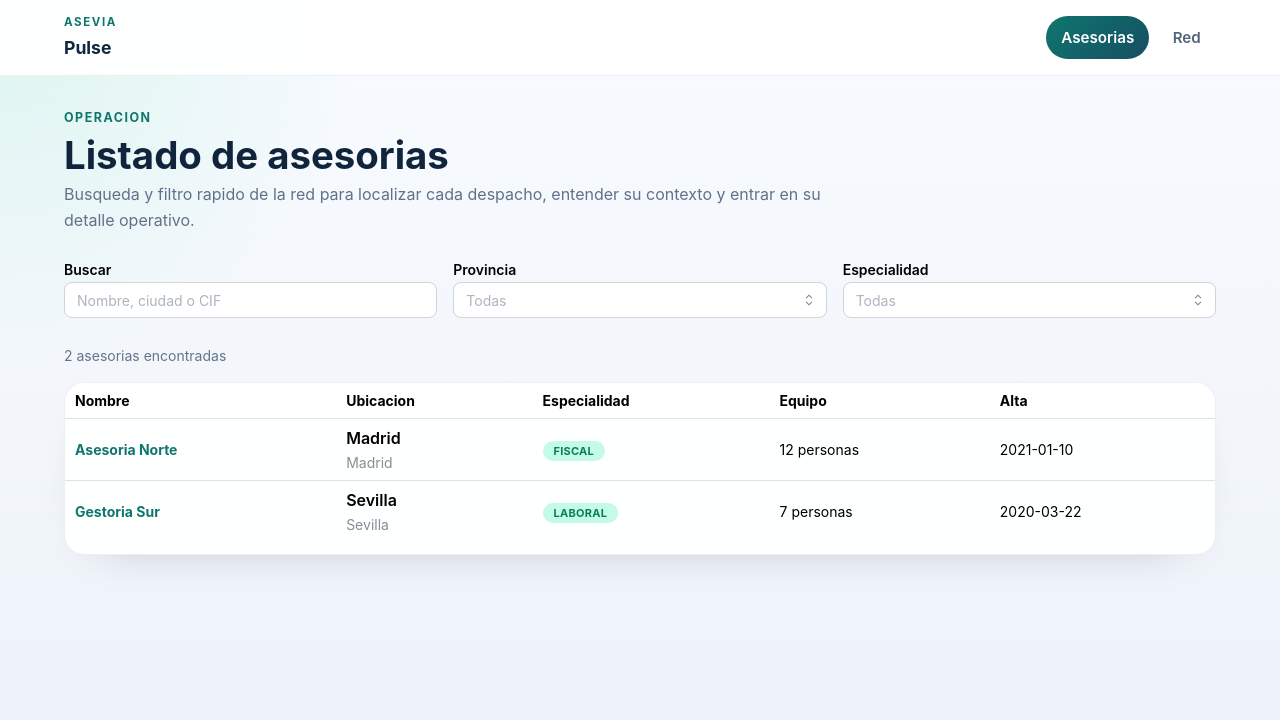
Test case: AsesoriasListPage integration › renders the list and updates results when the search changes
The width and height of the screenshot is (1280, 720).
Expected: the heading "Listado de asesorias" is shown, 64,132 -> 449,178
Expected: the link "Asesoria Norte" is shown, 75,441 -> 178,458
In the field labelled "Buscar": (251, 300) 64,282 -> 437,318, type "norte"
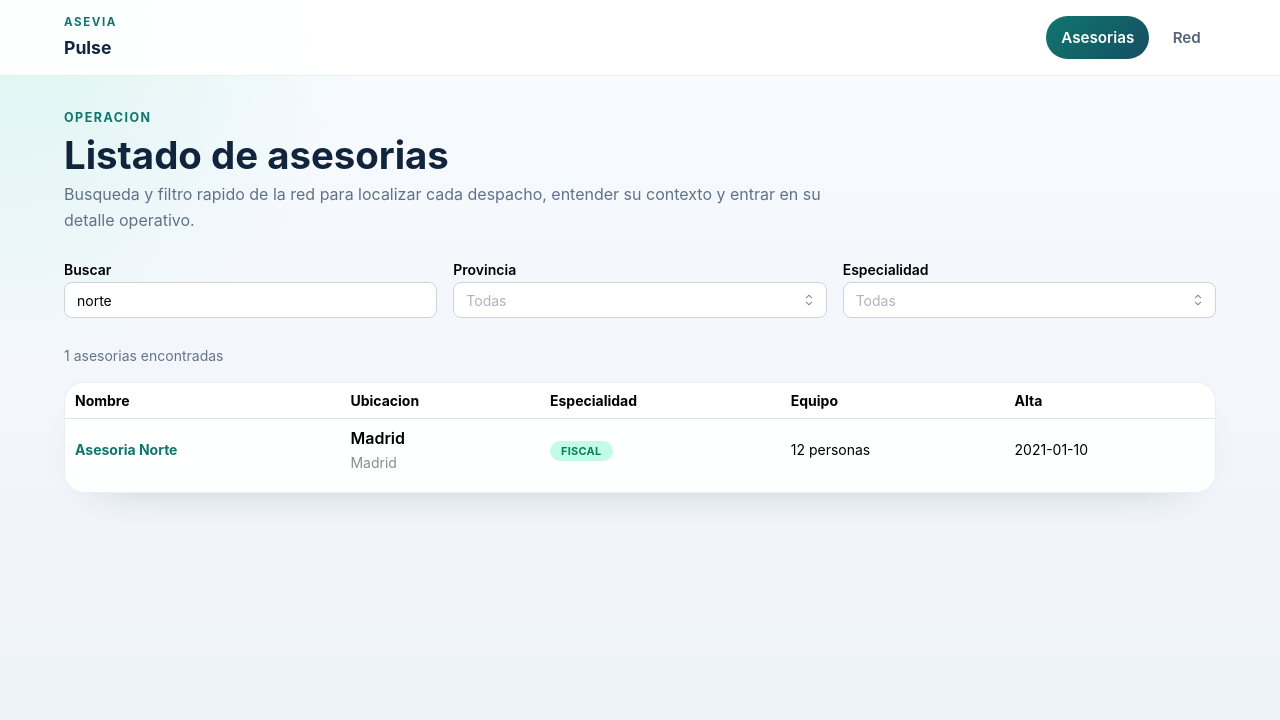
Expected: the link "Asesoria Norte" is shown, 75,441 -> 178,458
Now the link "Gestoria Sur" is gone
Now the text "1 asesorias encontradas" is shown, box 64,347 -> 224,364
